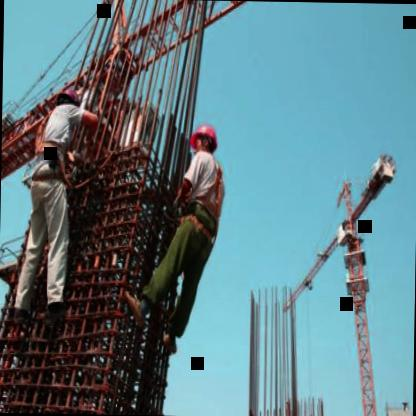helmet: (188, 122, 216, 158), (52, 84, 82, 116)
